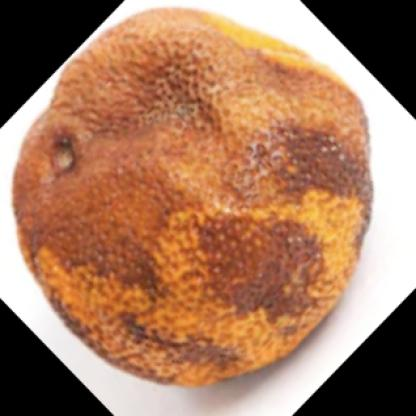rotten: (14, 10, 376, 394)
